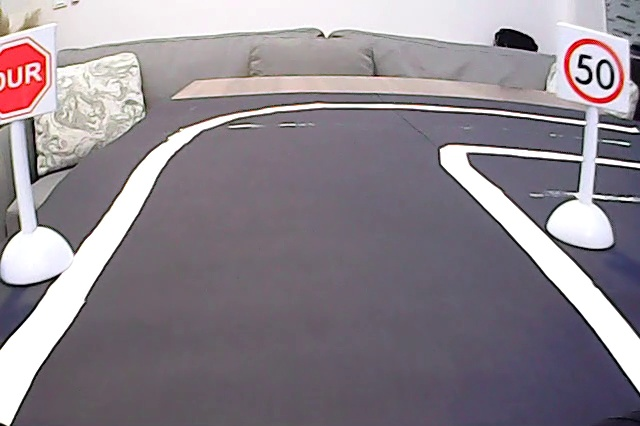speed limit 50: (562, 29, 622, 109)
stop sign: (1, 29, 53, 118)
